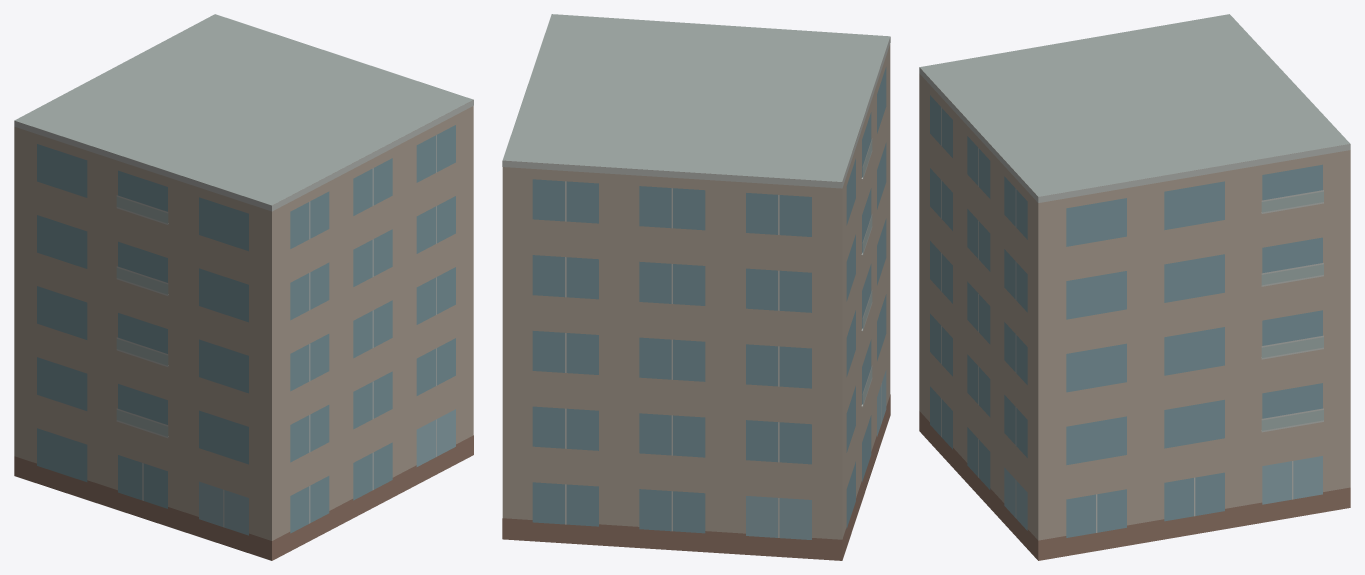
File: survey-upis-32854922.glb
3 renders of one model, left to right at view 1: azimuth 30°, elevation 25°; view 2: azimuth 150°, elevation 25°; view 3: azimuth 270°, elevation 25°, orthographic. The views are drawn at different scales.
Parts seen in each view (by area): view 1: survey-upis-32854922.tmp; view 2: survey-upis-32854922.tmp; view 3: survey-upis-32854922.tmp.
Part boxes in pixels (x1,y1,x2,y2): survey-upis-32854922.tmp: (14, 14, 473, 560); survey-upis-32854922.tmp: (502, 14, 890, 560); survey-upis-32854922.tmp: (919, 14, 1350, 560).
Size of the model in its own units: 15.48 by 14.35 by 15.42.
